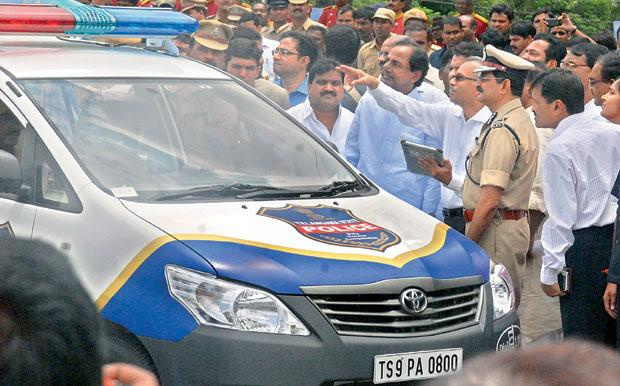Emergency-Vehicles: (0, 10, 515, 386)
